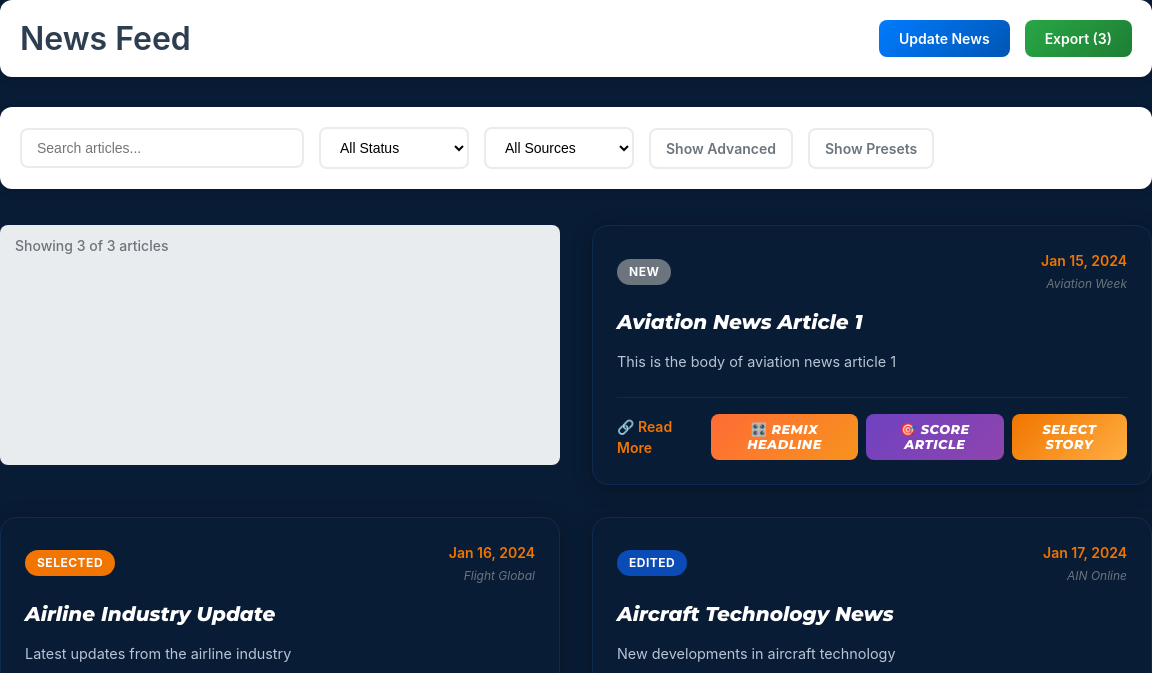
Test: Feed Component › Advanced Filters › shows advanced filters when toggle is clicked
Expected: the heading "Aviation News Article 1" is shown, [617,310,862,334]
What coordinates should you click on to do the following:
click the button "Show Advanced"
I would click on:
 (721, 148)
Its box is [649,128,793,168].
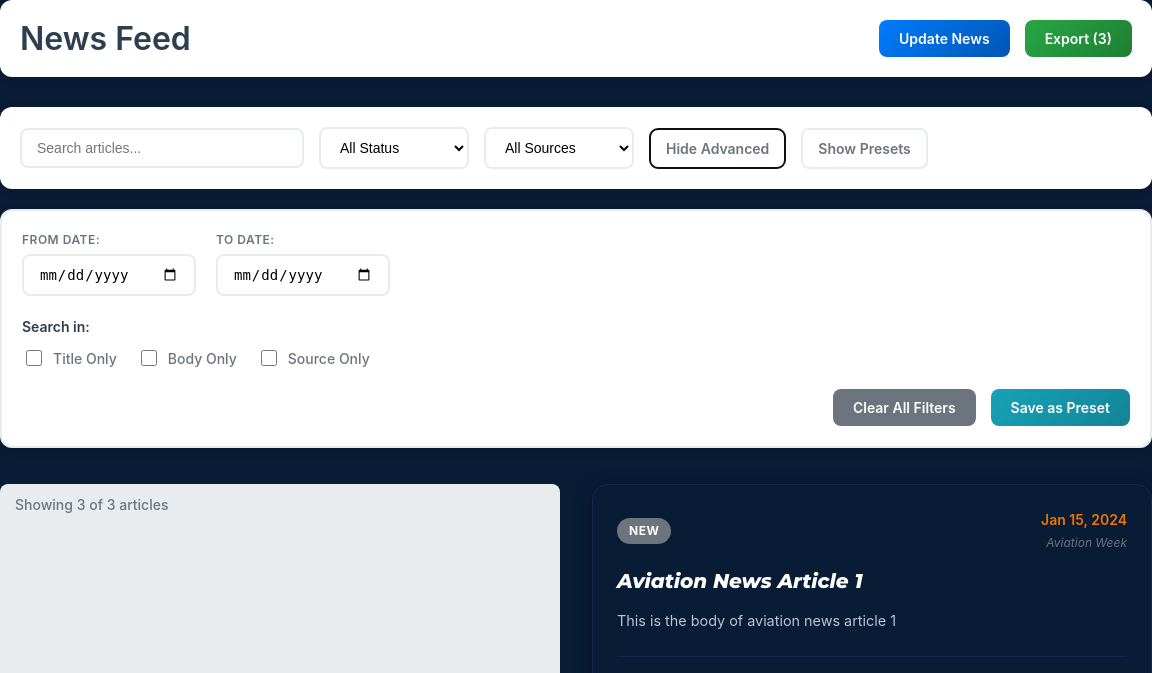
Now the text "From Date:" is shown, box [22,232,100,247]
Now the text "To Date:" is shown, box [216,232,275,247]
Now the text "Search in:" is shown, box [22,318,90,335]
